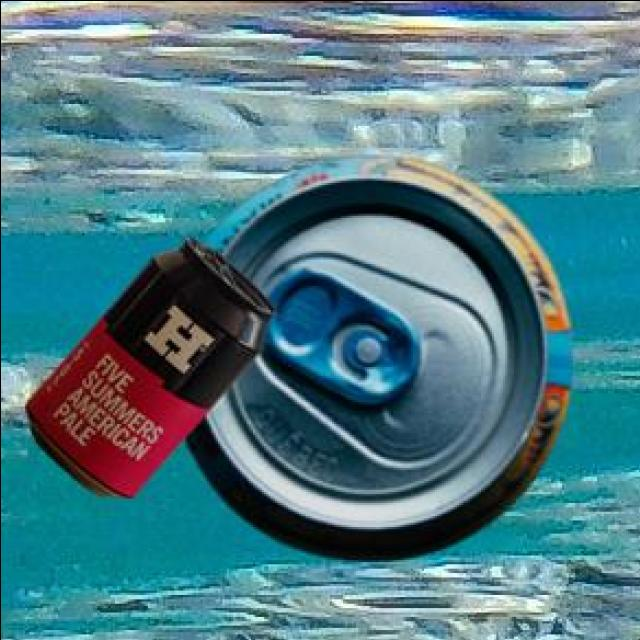logam: (181, 152, 569, 558), (21, 233, 271, 494)
